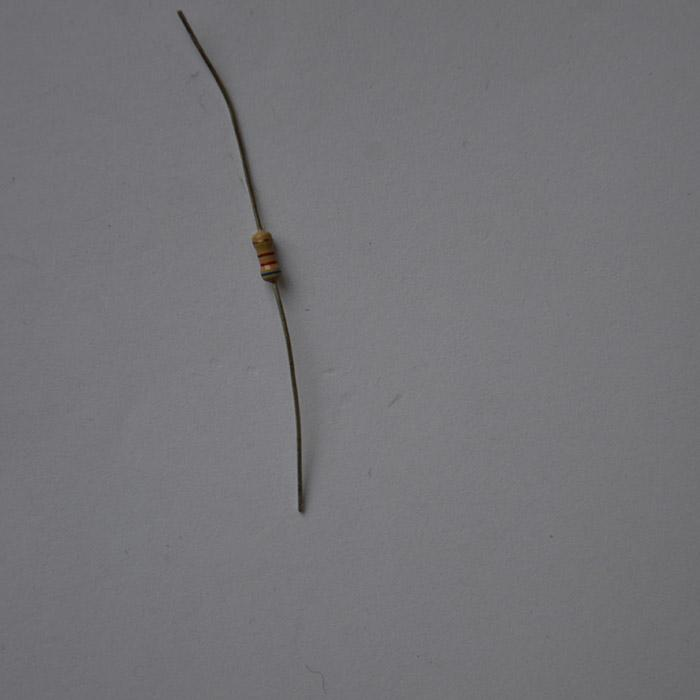resistor: (251, 228, 281, 284)
